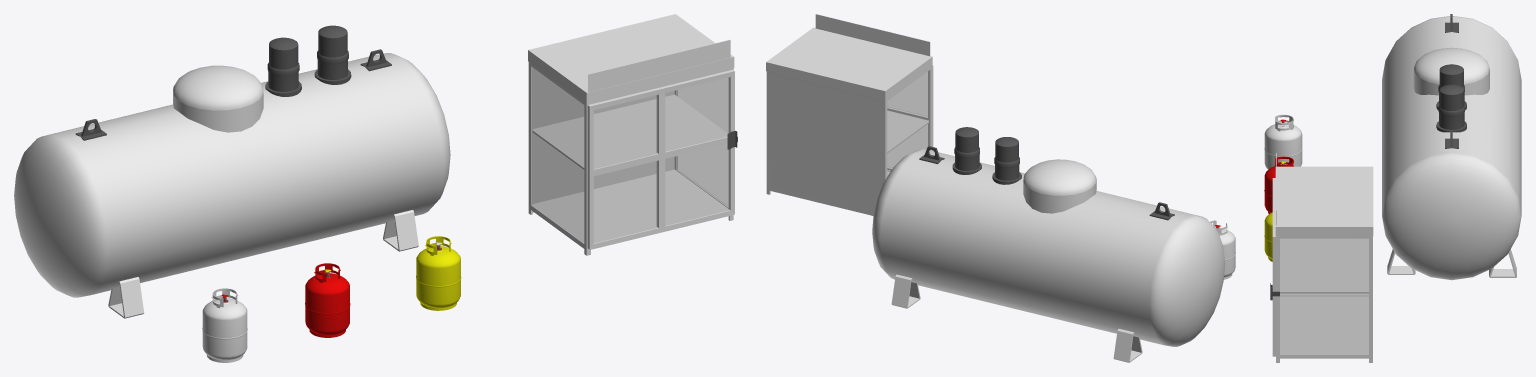
File: Propane Tanks.fbx
The picture shows the model from 3 angles, left to right: view 1: azimuth 30°, elevation 25°; view 2: azimuth 150°, elevation 25°; view 3: azimuth 270°, elevation 25°; orthographic projection. The views are drawn at different scales.
Parts seen in each view (by area): view 1: pSphere4, pCube21, pCube16, pCube18, pSphere1 (×3), pCube19, pCube11, pCube24, pCube17, pSphere8, pCube20, pCube25 (+4 smaller); view 2: pSphere4, pCube18, pCube16, pSphere8, pCube19, pCube25, pCube21, pCylinder8, pCylinder7, pCube11, Leg4, Leg3 (+2 smaller); view 3: pSphere4, pCube20, pCube16, pCube24, pCube11, pSphere8, pSphere1 (×3), pCube18, pCylinder7, pCube17, pCylinder8, Leg3 (+2 smaller).
Part boxes in pixels (x1,y1,x2,y2): pSphere4: (14, 53, 450, 297); pCube21: (594, 77, 729, 242); pCube16: (528, 14, 734, 103); pCube18: (528, 62, 733, 255); pSphere1 (×3): (202, 245, 461, 360); pCube19: (531, 67, 583, 242); pCube11: (532, 94, 727, 169); pCube24: (532, 169, 727, 241); pCube17: (587, 69, 734, 249); pSphere8: (173, 65, 263, 132); pCube20: (677, 78, 727, 205); pCube25: (588, 39, 730, 91); pSphere4: (872, 149, 1224, 346); pCube18: (766, 66, 932, 215); pCube16: (766, 27, 932, 100); pSphere8: (1023, 159, 1096, 213); pCube19: (887, 70, 929, 175); pCube25: (815, 14, 930, 56); pCube21: (888, 72, 927, 167); pCylinder8: (992, 137, 1021, 184); pCylinder7: (952, 127, 981, 174); pCube11: (887, 110, 928, 153); Leg4: (1113, 329, 1142, 362); Leg3: (891, 274, 920, 308); pSphere4: (1382, 16, 1521, 280); pCube20: (1280, 239, 1368, 353); pCube16: (1275, 166, 1373, 236); pCube24: (1280, 296, 1368, 353); pCube11: (1280, 238, 1368, 293); pSphere8: (1413, 47, 1489, 95); pSphere1 (×3): (1264, 122, 1302, 259); pCube18: (1276, 236, 1372, 362); pCylinder7: (1436, 84, 1466, 132); pCube17: (1272, 178, 1275, 356); pCylinder8: (1436, 64, 1466, 110); Leg3: (1489, 249, 1516, 277).
Bounding box in the file's own units: 180 × 58.43 × 80.84.
